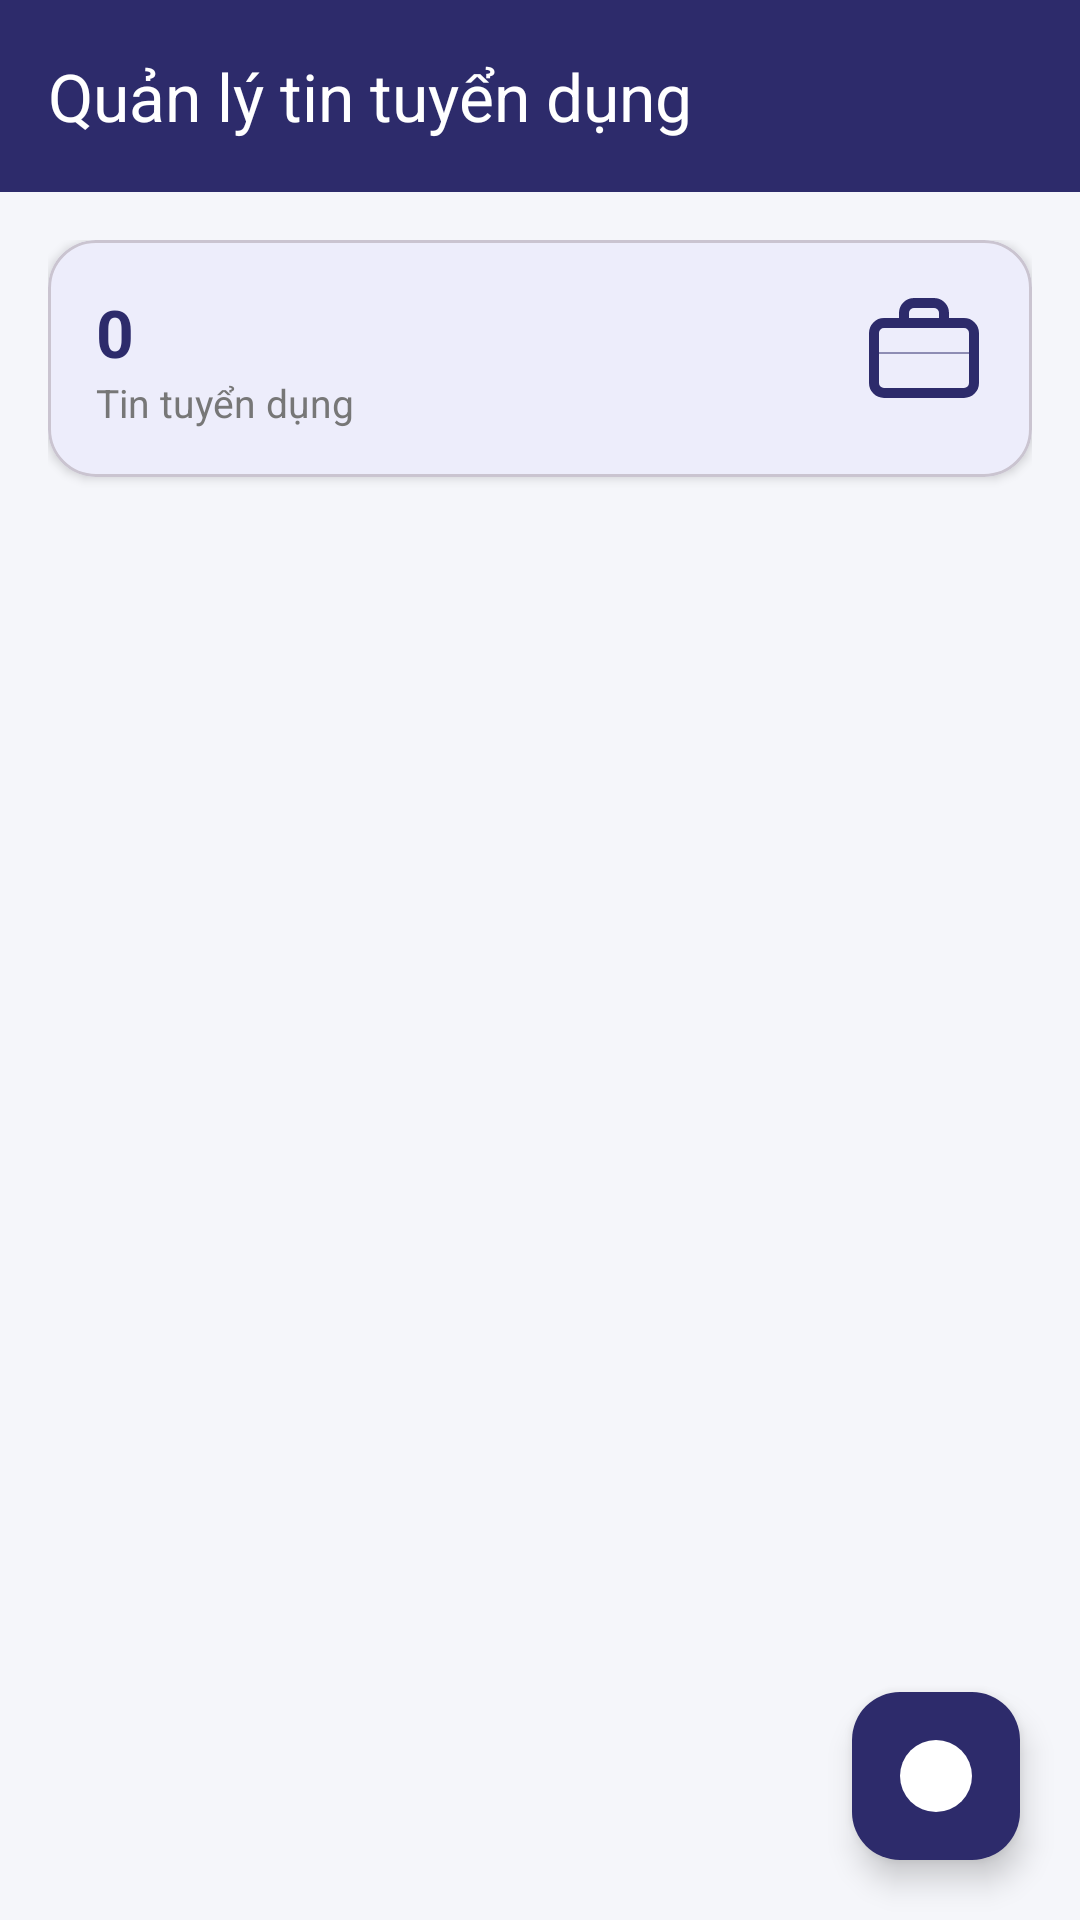

Point at icon controls on the screen. Image size 1080 x 1920, points as (x=x, y=y).
work: (x=924, y=348)
